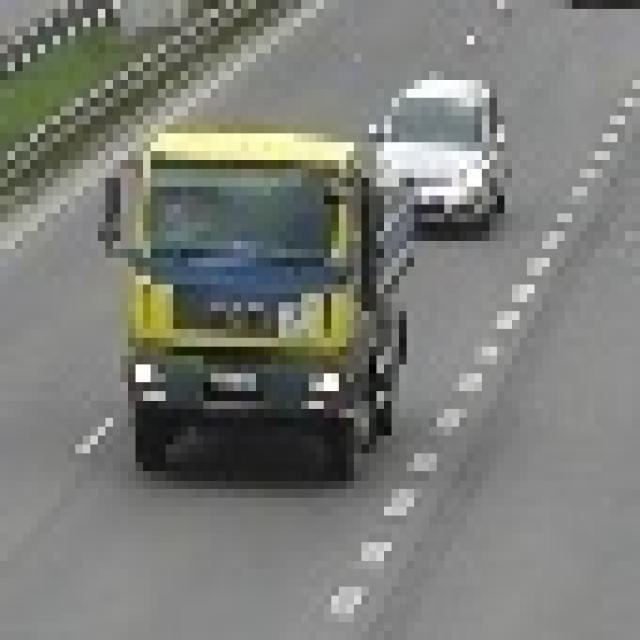Truck: (90, 107, 414, 444)
